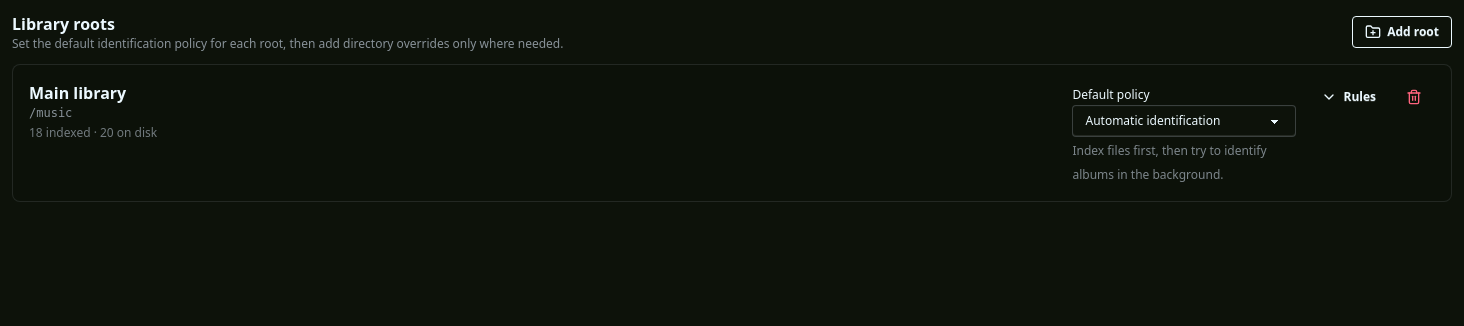
Scenario: LibraryRootPolicyEditor › renders backend effective rows with inheritance, availability, and counts
Expected: the text "18 indexed · 20 on disk" is shown, [29,124,157,141]
Click the button "Rules" at (1349, 97), box [1308,81,1389,113]
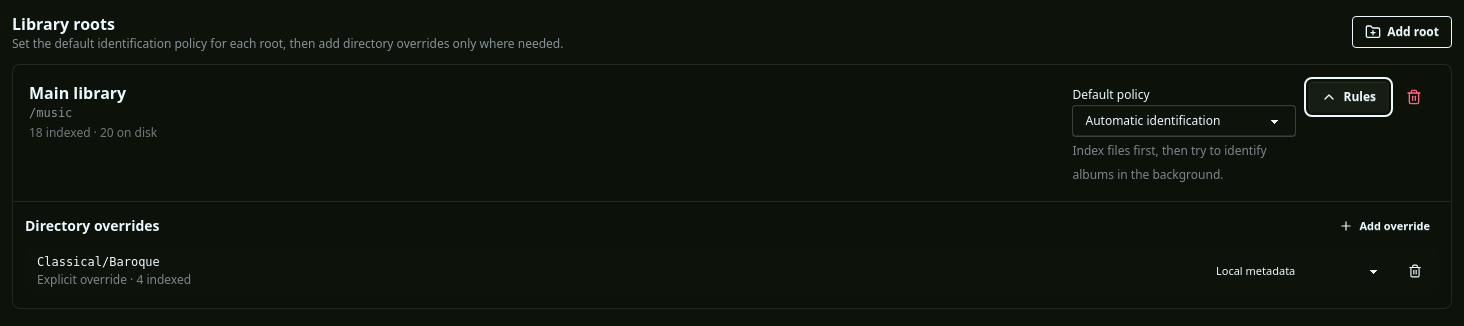
Expected: the text "Explicit override · 4 indexed" is shown, [37,271,191,288]
